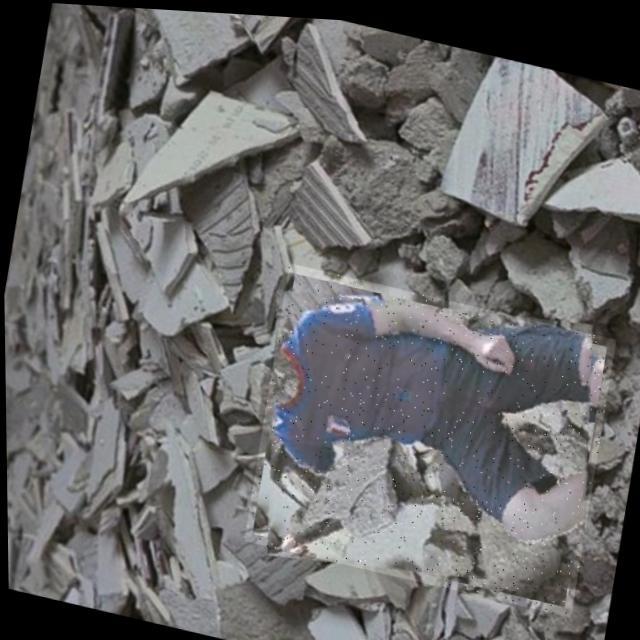Person in Rubble: (239, 256, 618, 611)
